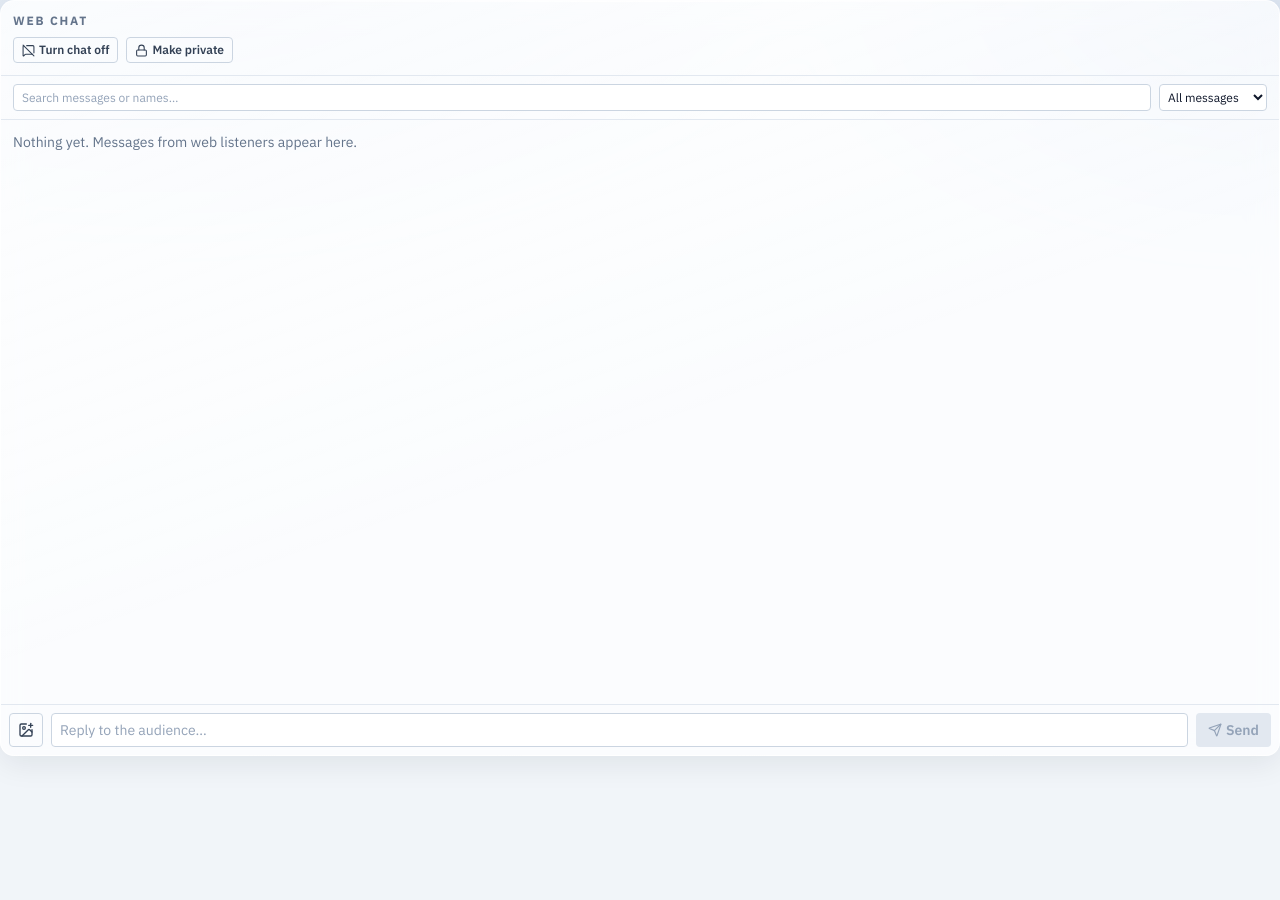
Test: a refusal is shown rather than swallowed
Type "x" into the field with test id "chat-input".
click(620, 730); type("x")  # box [51, 713, 1188, 747]
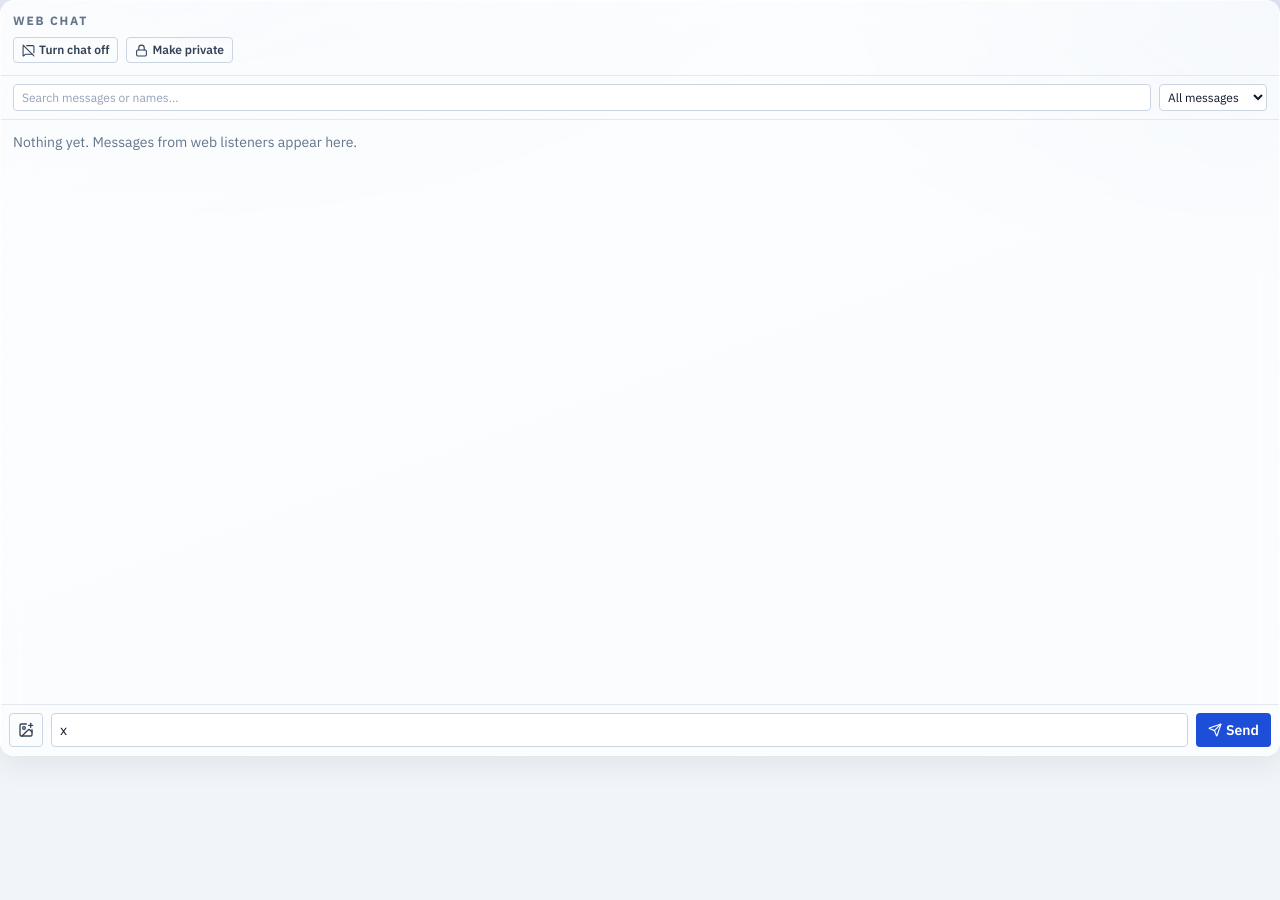
Click the button with test id "chat-send".
click(1234, 730)  # box [1196, 713, 1271, 747]
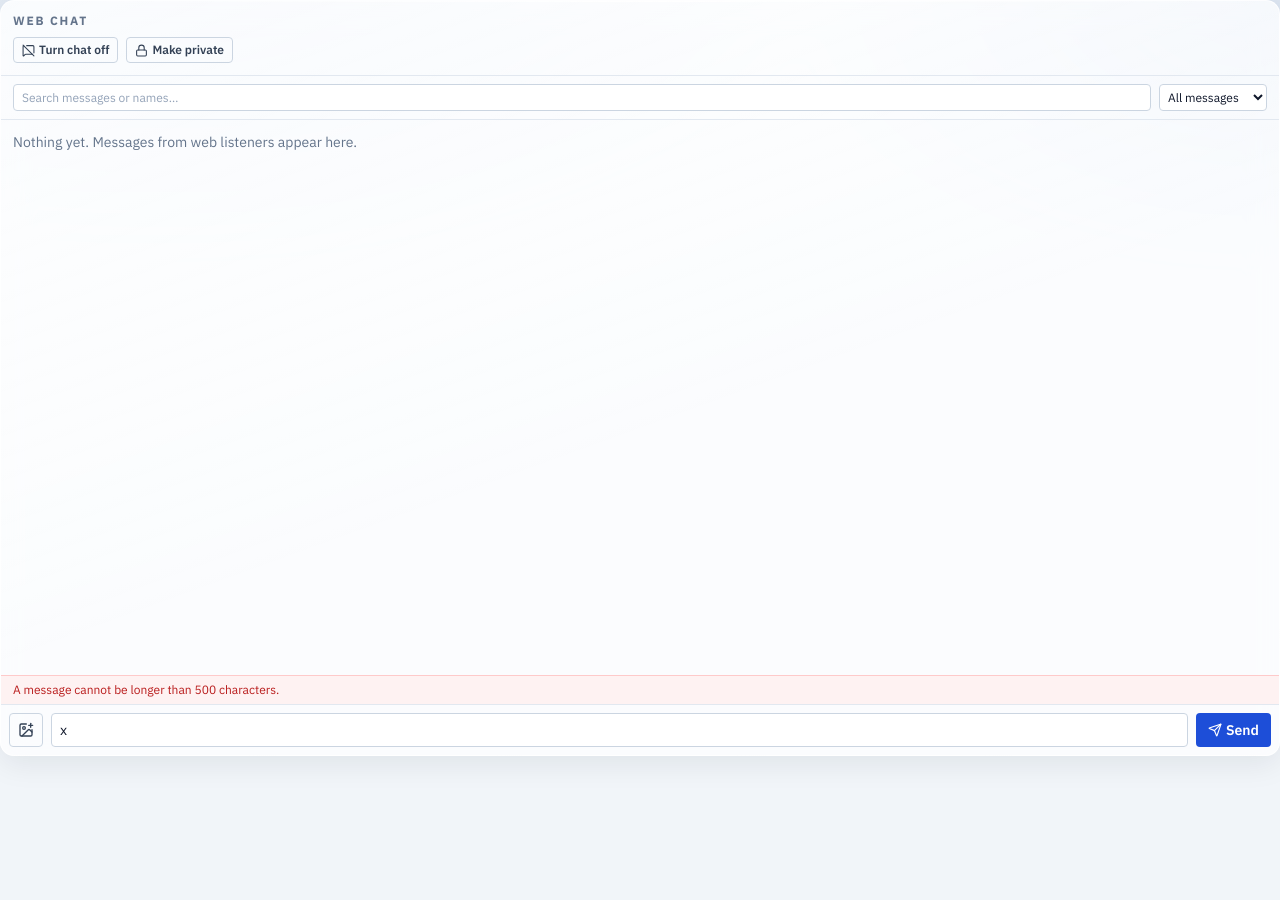
Expected: the message with test id "chat-error" shows "500 characters", [13, 682, 279, 697]
